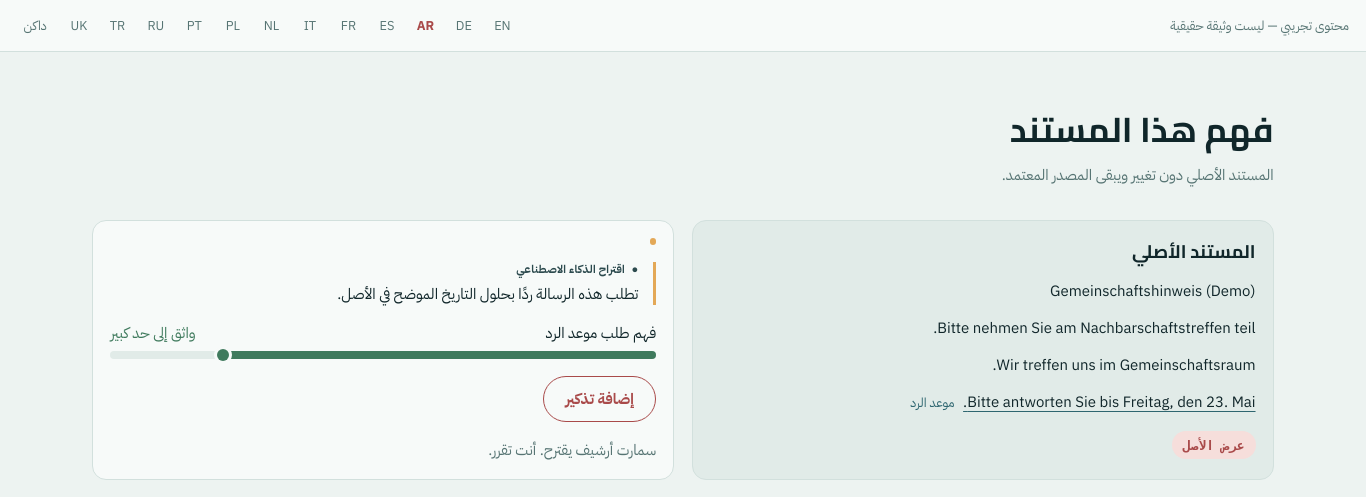
Scenario: DocumentUnderstanding (HSA-08) › renders Ukrainian explanation without translating the original
This screenshot has width=1366, height=497.
Step 1. Click the button "UK" → (79, 26), box [62,8,96,43]
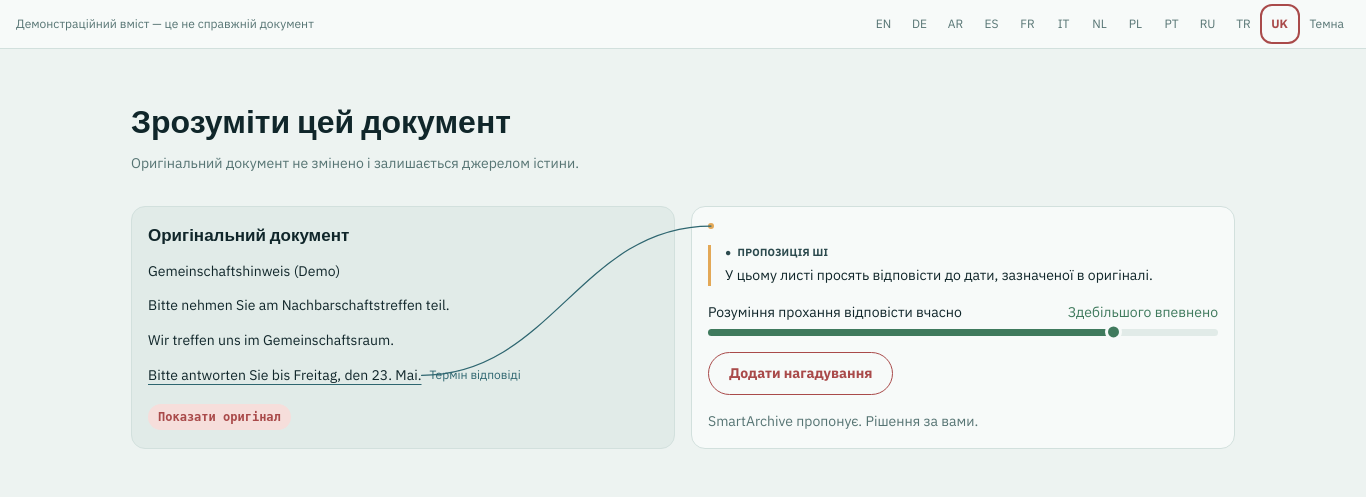
Check: the text "Gemeinschaftshinweis (Demo)" is shown, box [148,260,340,282]
Check: the text "У цьому листі просять відповісти до дати, зазначеної в оригіналі." is shown, box [725,265,1218,286]
